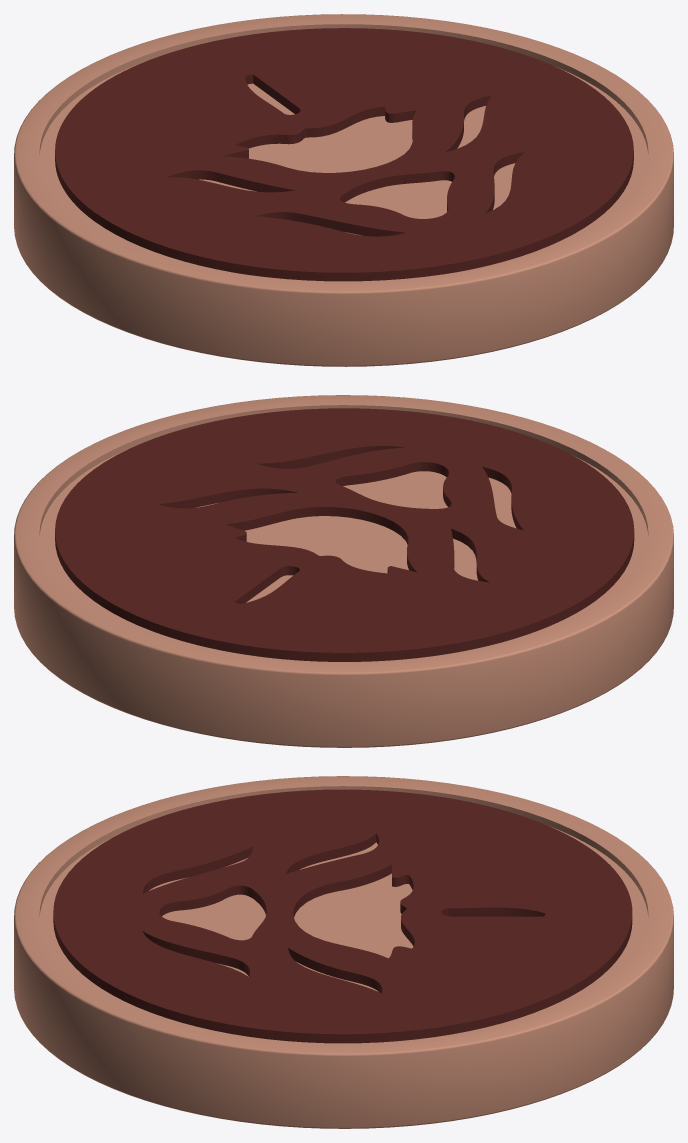
Rendered from WhiteJade_W.fbx.
3 renders of one model, top to bottom at view 1: azimuth 30°, elevation 25°; view 2: azimuth 150°, elevation 25°; view 3: azimuth 270°, elevation 25°, orthographic.
Visible parts, largest first — view 1: Tile08; view 2: Tile08; view 3: Tile08.
Boxes of the visible parts, box(x1,y1,x2,y2) form: Tile08: box(14, 14, 673, 366); Tile08: box(14, 395, 673, 747); Tile08: box(14, 776, 673, 1128).
Size of the model in its own units: 13.25 by 1.73 by 13.25.
